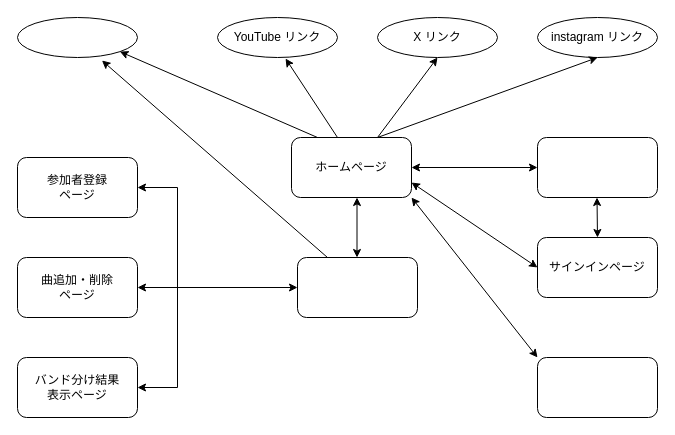
The diagram is 675 pixels wide and 435 high, and some of its shapes have lost their labels. Here are the shapes that lost their labels. From the top down, the centre of each, then its label:
point 77,37: 楽譜 リンク
point 597,167: ログインページ
point 357,287: 定期活動会 参加者登録 ページ
point 597,387: ユーザー情報変更 ページ
